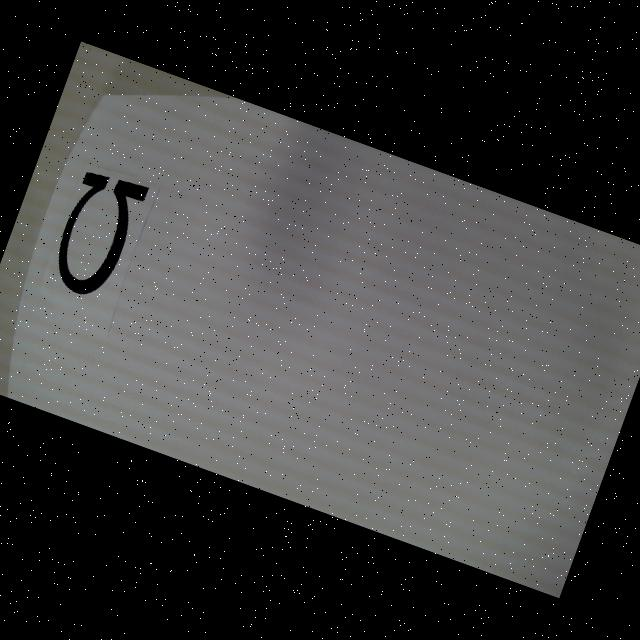OMEGA: (44, 165, 150, 305)
